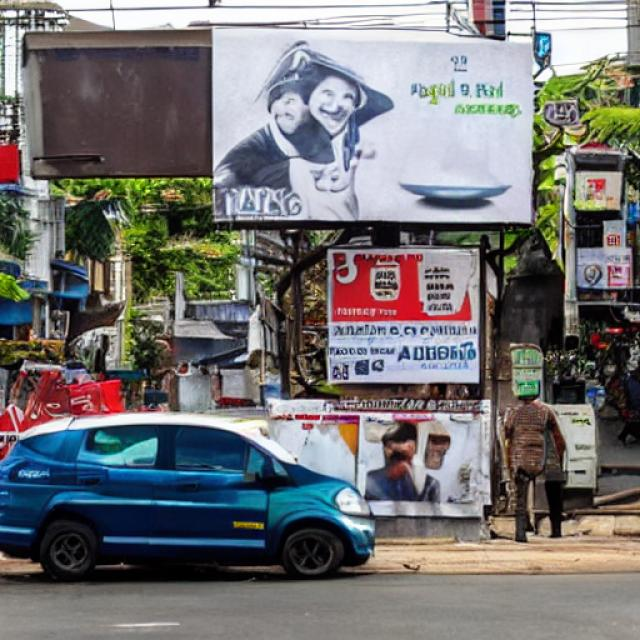Billboard: (208, 21, 538, 230), (326, 245, 483, 388)
